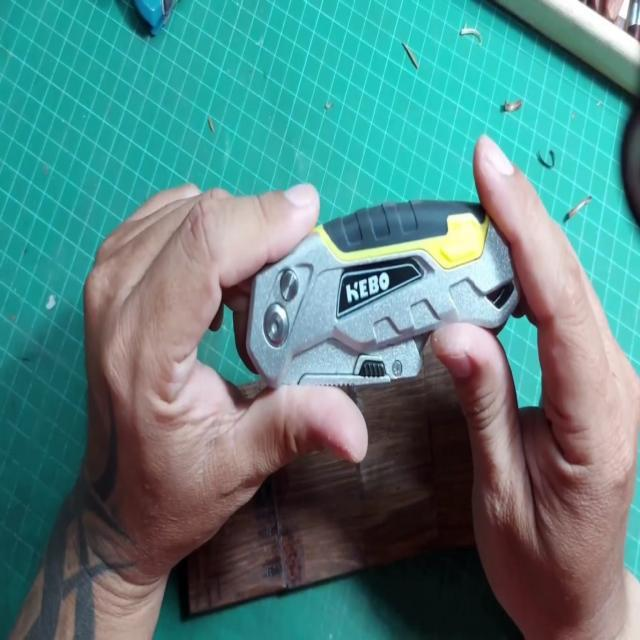cutter: (49, 100, 640, 604)
